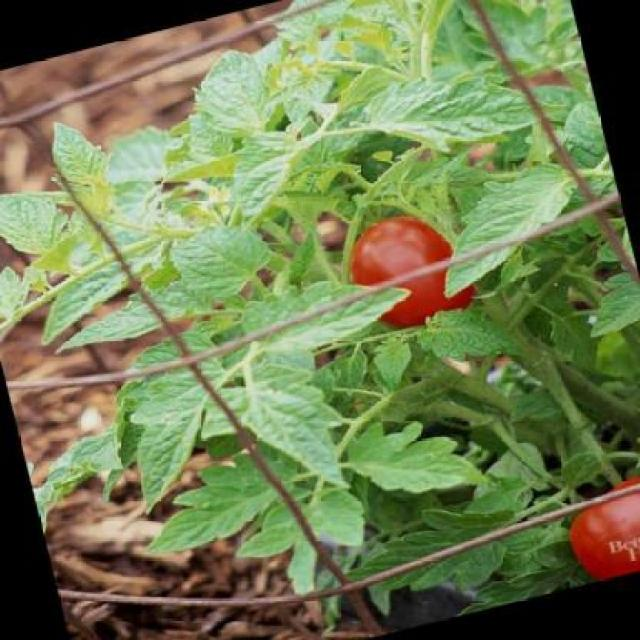Healthy Leaf: (420, 146, 609, 294), (106, 351, 271, 515), (357, 51, 566, 175), (208, 342, 362, 503), (335, 490, 537, 612), (324, 404, 484, 524), (122, 446, 283, 562), (18, 237, 158, 346), (246, 269, 408, 362), (178, 37, 298, 151), (402, 289, 524, 380), (162, 209, 269, 311), (42, 109, 122, 206), (0, 178, 74, 264)
